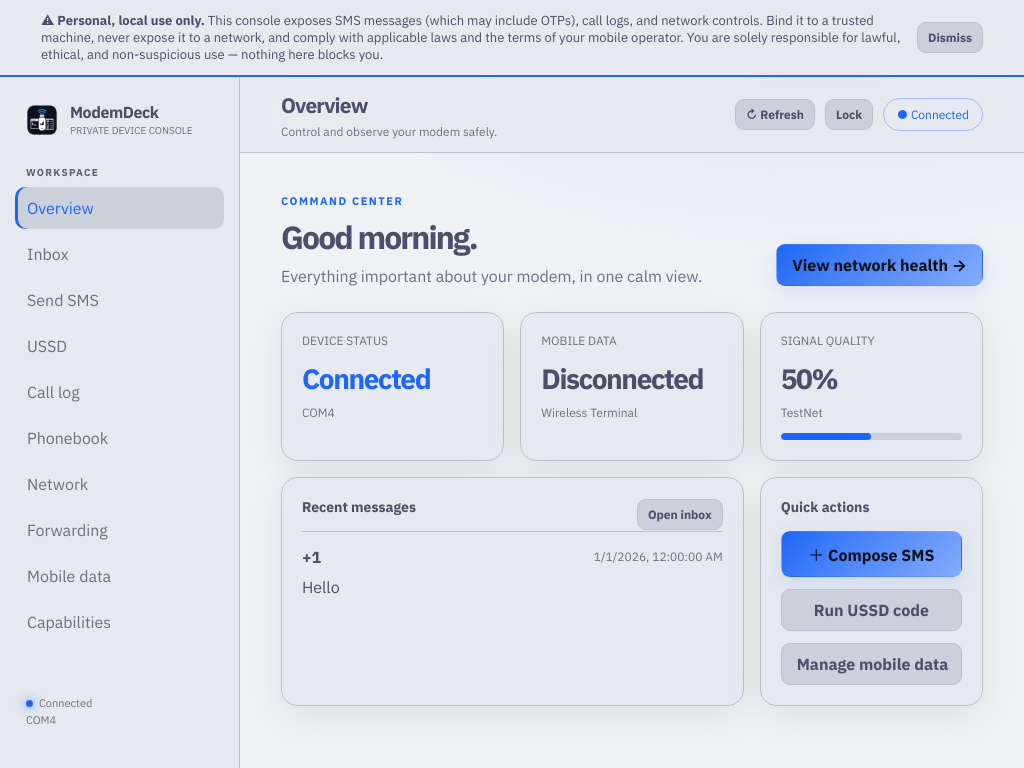
Test: App integration shell › loads the dashboard and navigates through the real feature shell
Expected: the heading "Recent messages" is shown, [302, 498, 416, 516]
Click the button "Network": {"x": 120, "y": 484} [15, 463, 224, 505]
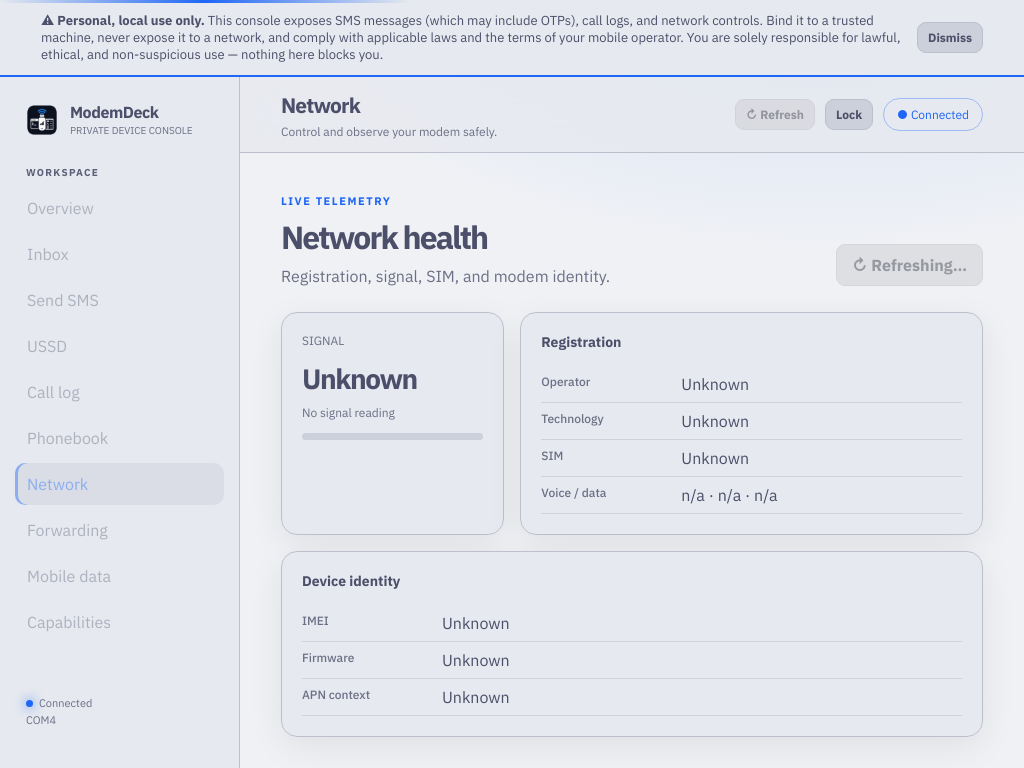
Result: the heading "Network health" is shown at [281, 216, 487, 258]
Click the button "Mobile data": {"x": 120, "y": 576} [15, 555, 224, 597]
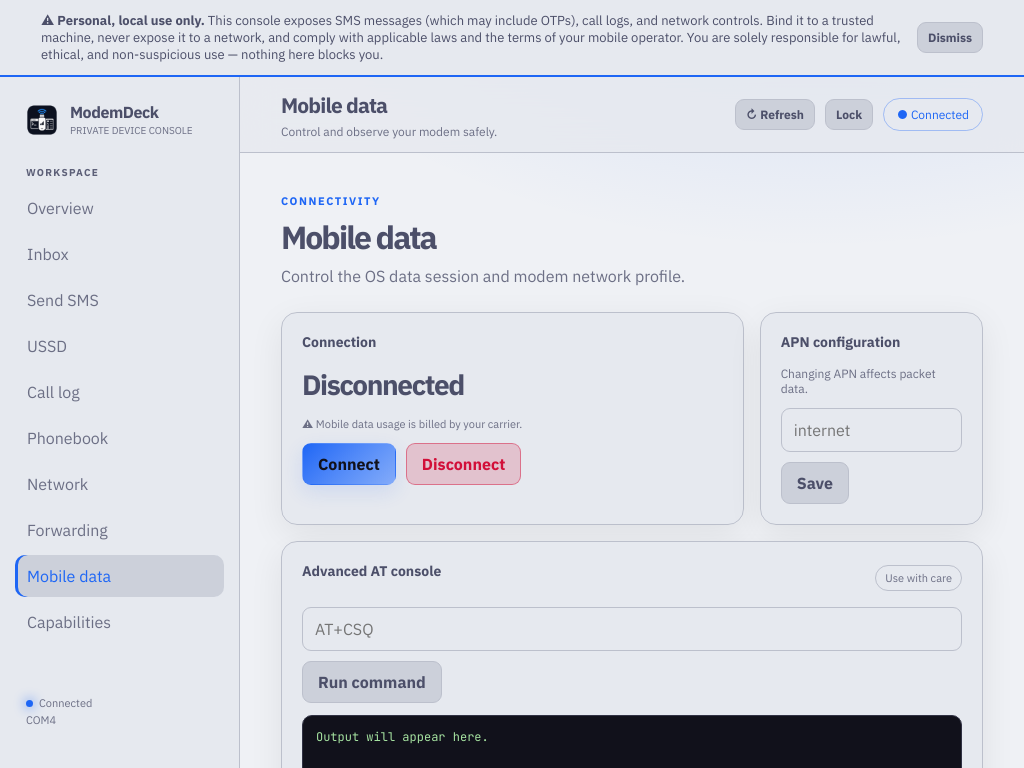
Result: the heading "Connection" is shown at [302, 333, 376, 351]
